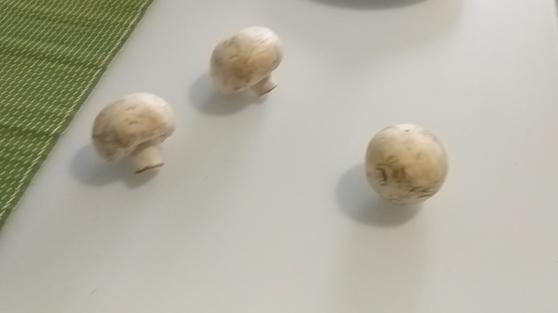champignon: (365, 122, 447, 204), (90, 95, 174, 175), (210, 27, 283, 100)
